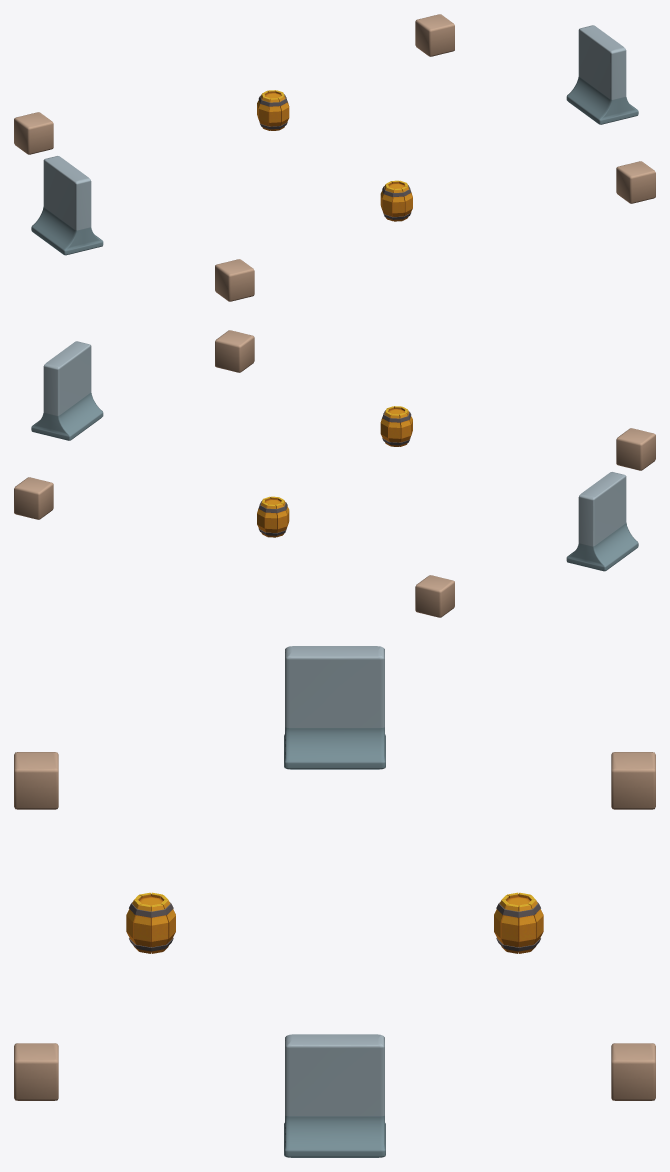
File: Props.fbx
The picture shows the model from 3 angles, top to bottom: view 1: azimuth 30°, elevation 25°; view 2: azimuth 150°, elevation 25°; view 3: azimuth 270°, elevation 25°; orthographic projection. The views are drawn at different scales.
Parts seen in each view (by area): view 1: 曲面单元 (×2), Box1-6, Box1-6 (3), Box1-6 (1), Box1-6 (2), Cask, Cask (1); view 2: 曲面单元 (×2), Box1-6 (1), Box1-6 (2), Box1-6, Box1-6 (3), Cask (1), Cask; view 3: 曲面单元 (×2), Box1-6, Box1-6 (1), Box1-6 (2), Box1-6 (3), Cask, Cask (1).
Part boxes in pixels (left/top/right/bottom): 曲面单元 (×2): left=31, top=25, right=638, bottom=255; Box1-6: left=616, top=161, right=655, bottom=203; Box1-6 (3): left=14, top=112, right=53, bottom=154; Box1-6 (1): left=415, top=14, right=454, bottom=56; Box1-6 (2): left=215, top=259, right=254, bottom=301; Cask: left=380, top=180, right=412, bottom=221; Cask (1): left=257, top=90, right=289, bottom=130; 曲面单元 (×2): left=31, top=341, right=638, bottom=571; Box1-6 (1): left=14, top=477, right=53, bottom=519; Box1-6 (2): left=616, top=428, right=655, bottom=470; Box1-6: left=215, top=330, right=254, bottom=372; Box1-6 (3): left=415, top=575, right=454, bottom=617; Cask (1): left=257, top=496, right=289, bottom=537; Cask: left=380, top=406, right=412, bottom=446; 曲面单元 (×2): left=284, top=646, right=385, bottom=1157; Box1-6: left=14, top=1043, right=58, bottom=1100; Box1-6 (1): left=611, top=1043, right=655, bottom=1100; Box1-6 (2): left=14, top=752, right=58, bottom=809; Box1-6 (3): left=611, top=752, right=655, bottom=809; Cask: left=126, top=892, right=175, bottom=953; Cask (1): left=494, top=892, right=543, bottom=953.
Size of the model in its own units: 42.96 by 5.02 by 27.95.
Materials: 3 (3 with a texture image).
